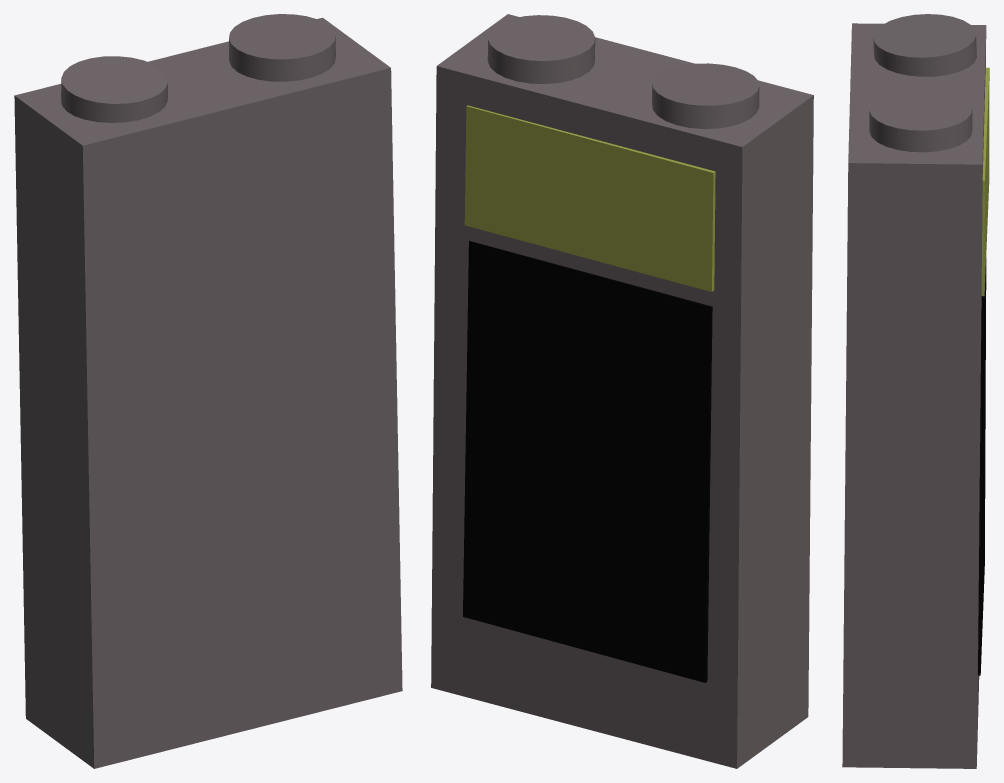
File: Basic digit lock 1 body without buttons and arch.fbx
3 views of the same model, side by side, from view 1: azimuth 30°, elevation 25°; view 2: azimuth 150°, elevation 25°; view 3: azimuth 270°, elevation 25° (orthographic). The views are drawn at different scales.
Visible parts, largest first — view 1: 4dd5ac1c-f78d-4668-98cc-c520c32be48b; view 2: 4dd5ac1c-f78d-4668-98cc-c520c32be48b; view 3: 4dd5ac1c-f78d-4668-98cc-c520c32be48b.
Part boxes in pixels (box(x1,y1,x2,y2)): 4dd5ac1c-f78d-4668-98cc-c520c32be48b: box(14, 14, 402, 768); 4dd5ac1c-f78d-4668-98cc-c520c32be48b: box(431, 14, 813, 768); 4dd5ac1c-f78d-4668-98cc-c520c32be48b: box(842, 14, 989, 768).
Size of the model in its own units: 13470 by 26472 by 5633.
